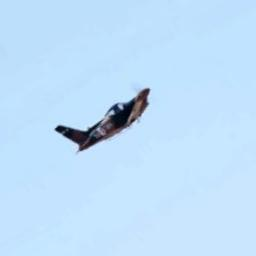Airplane: (54, 87, 151, 155)
